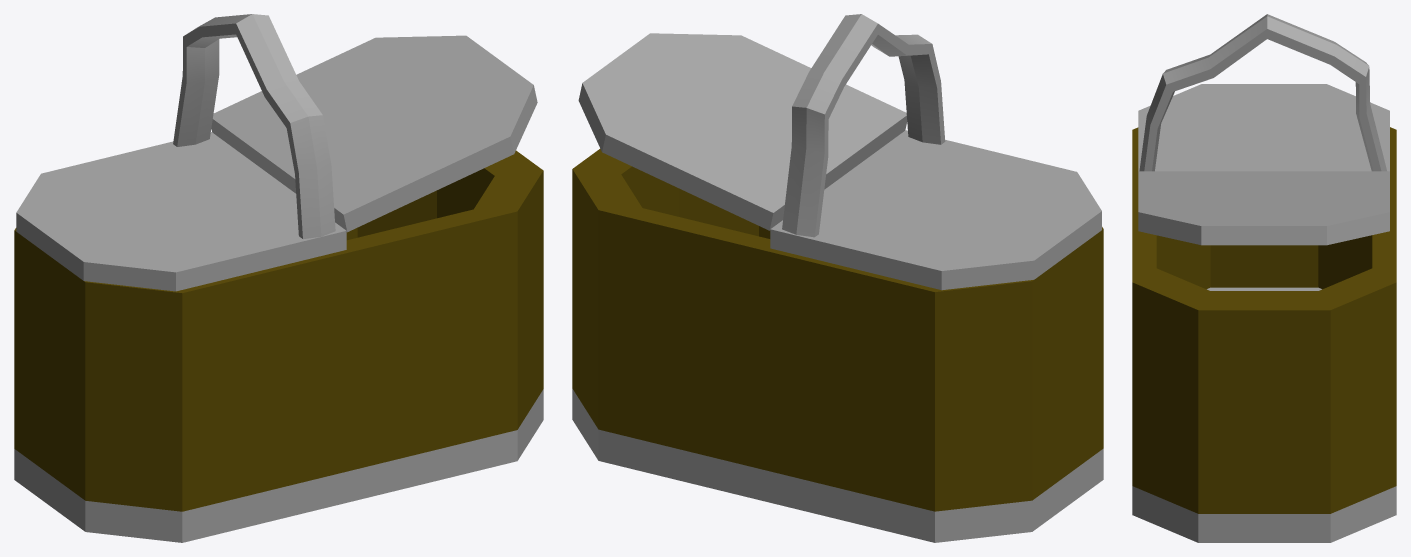
File: PiknikBaskitMeshWwonkyHandel.fbx
The picture shows the model from 3 angles, left to right: view 1: azimuth 30°, elevation 25°; view 2: azimuth 150°, elevation 25°; view 3: azimuth 270°, elevation 25°; orthographic projection. The views are drawn at different scales.
Visible parts, largest first — view 1: pCube73; view 2: pCube73; view 3: pCube73.
Boxes of the visible parts, x1=… form: pCube73: x1=14, y1=14, x2=543, y2=542; pCube73: x1=572, y1=14, x2=1103, y2=542; pCube73: x1=1132, y1=14, x2=1396, y2=542.
Bounding box in the file's own units: 80.52 × 74.1 × 43.23.
